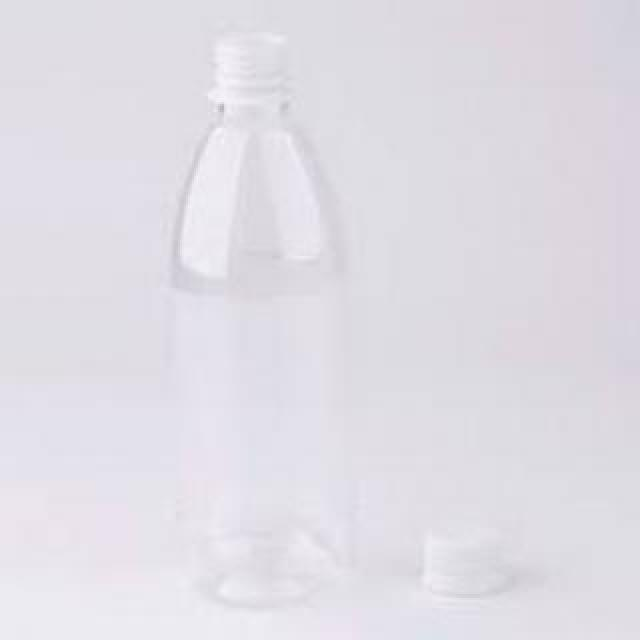Pet_Bottle: (161, 26, 363, 626)
